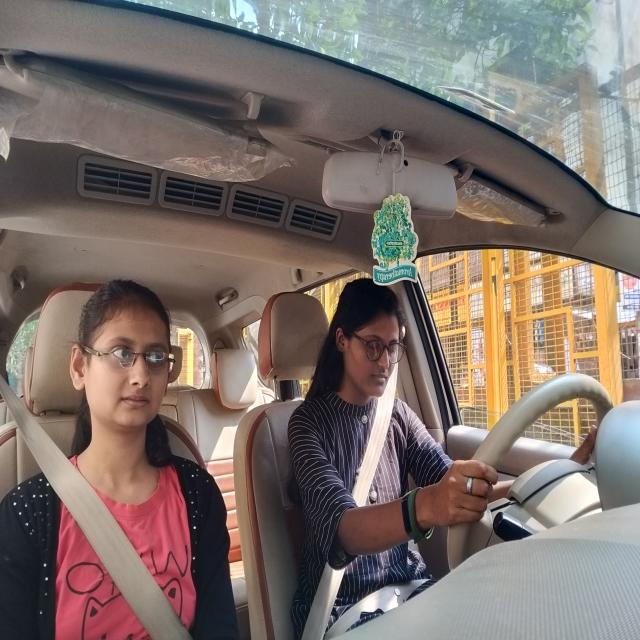drowsy: (334, 273, 408, 401)
person: (69, 280, 175, 446)
